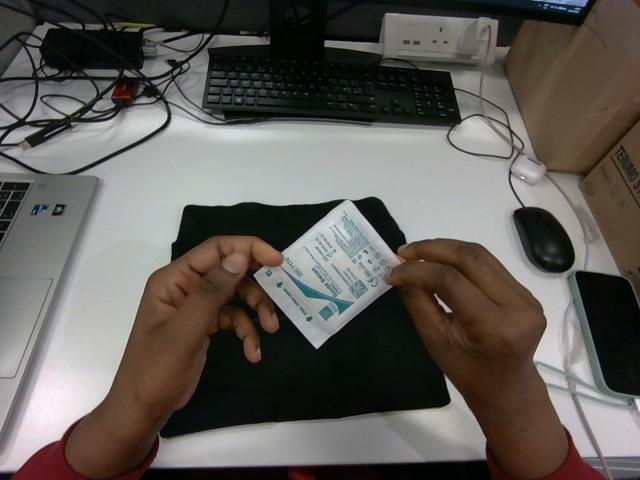gauze: (254, 201, 399, 347)
